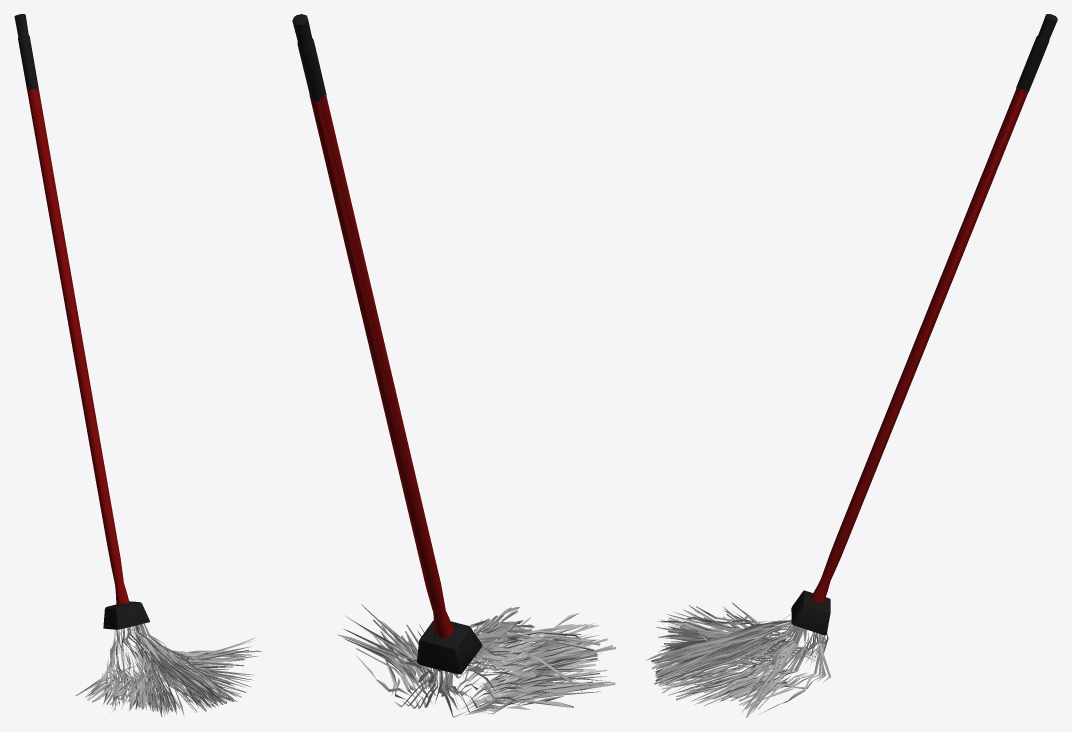
File: mop.FBX
The picture shows the model from 3 angles, left to right: view 1: azimuth 30°, elevation 25°; view 2: azimuth 150°, elevation 25°; view 3: azimuth 270°, elevation 25°; orthographic projection. The views are drawn at different scales.
Visible parts, largest first — view 1: mop; view 2: mop; view 3: mop.
Part boxes in pixels (x1=…): mop: x1=14, y1=14, x2=262, y2=716; mop: x1=292, y1=14, x2=615, y2=717; mop: x1=646, y1=14, x2=1057, y2=717.
Bounding box in the file's own units: 38.87 × 111 × 63.26.
Materials: 1 (1 with a texture image).
